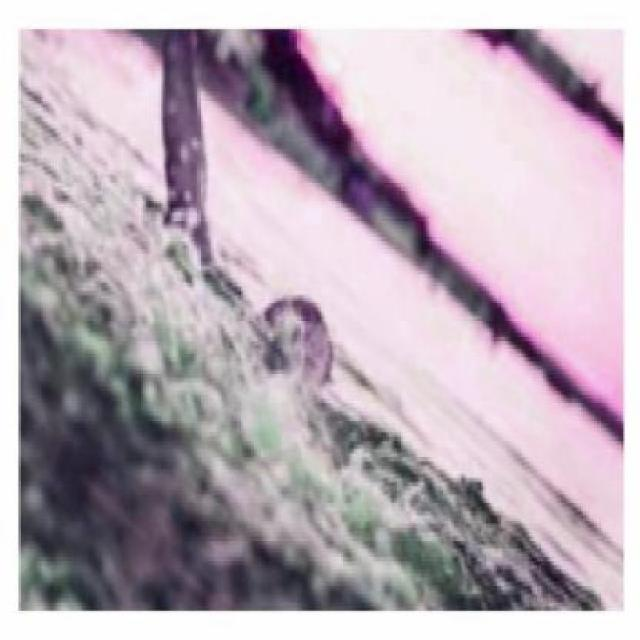drowning: (160, 28, 343, 398)
